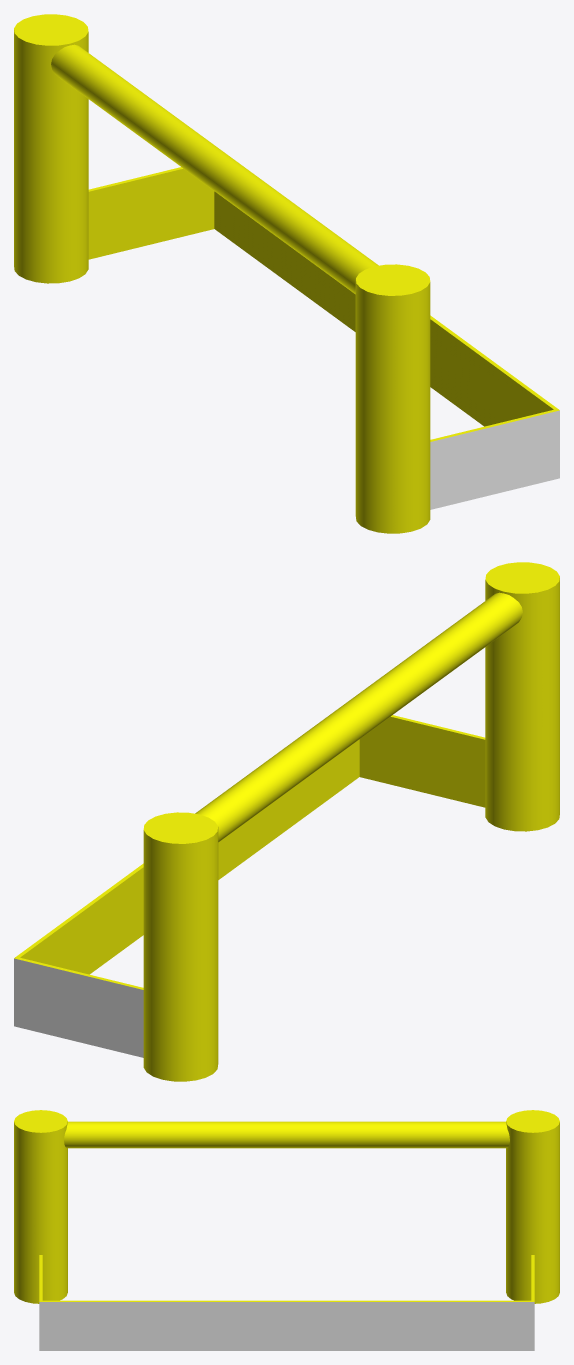
The model's file is YellowGoal.obj.
3 views of the same model, one above another, from view 1: azimuth 30°, elevation 25°; view 2: azimuth 150°, elevation 25°; view 3: azimuth 270°, elevation 25° (orthographic). The views are drawn at different scales.
Visible parts, largest first — view 1: pCylinder3 group9 group8 group7, group9 group8 group7 pCylinder4, group9 group8 group7 pCylinder5, group9 group8 group7 pCube15, group9 group8 group7 pCube13, group9 group8 group7 pCube14; view 2: group9 group8 group7 pCylinder4, pCylinder3 group9 group8 group7, group9 group8 group7 pCylinder5, group9 group8 group7 pCube15, group9 group8 group7 pCube14, group9 group8 group7 pCube13; view 3: group9 group8 group7 pCube15, group9 group8 group7 pCylinder5, pCylinder3 group9 group8 group7, group9 group8 group7 pCylinder4, group9 group8 group7 pCube14.
Boxes of the visible parts, x1,y1,x2,y2 form: pCylinder3 group9 group8 group7: [355, 264, 430, 533]; group9 group8 group7 pCylinder4: [14, 14, 88, 283]; group9 group8 group7 pCylinder5: [51, 44, 378, 294]; group9 group8 group7 pCube15: [214, 191, 558, 426]; group9 group8 group7 pCube13: [430, 409, 559, 509]; group9 group8 group7 pCube14: [88, 167, 214, 259]; group9 group8 group7 pCylinder4: [143, 812, 218, 1081]; pCylinder3 group9 group8 group7: [485, 562, 559, 831]; group9 group8 group7 pCylinder5: [195, 592, 522, 842]; group9 group8 group7 pCube15: [15, 739, 359, 974]; group9 group8 group7 pCube14: [14, 957, 143, 1057]; group9 group8 group7 pCube13: [359, 715, 485, 807]; group9 group8 group7 pCube15: [40, 1300, 532, 1350]; group9 group8 group7 pCylinder5: [64, 1121, 509, 1148]; pCylinder3 group9 group8 group7: [14, 1110, 67, 1303]; group9 group8 group7 pCylinder4: [506, 1110, 559, 1303]; group9 group8 group7 pCube14: [531, 1255, 534, 1350].
Bounding box in the file's own units: 0.3057 × 0.35 × 1.01.
